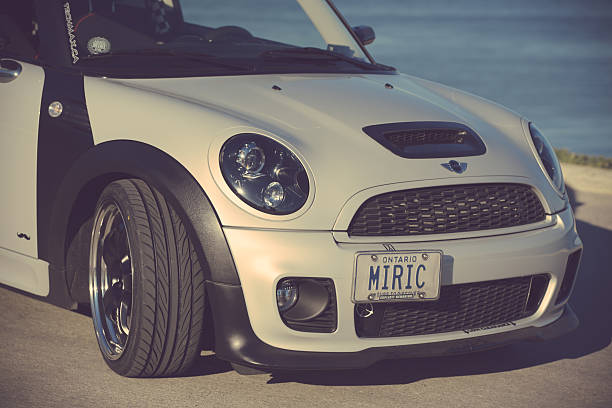licence: (344, 246, 442, 311)
